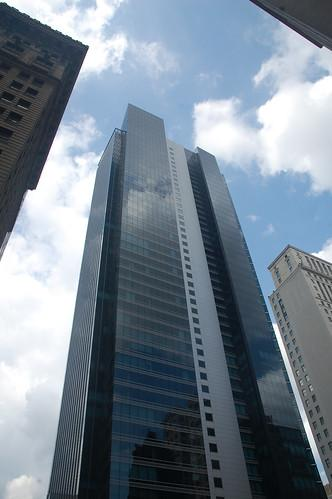building: (56, 101, 322, 499)
